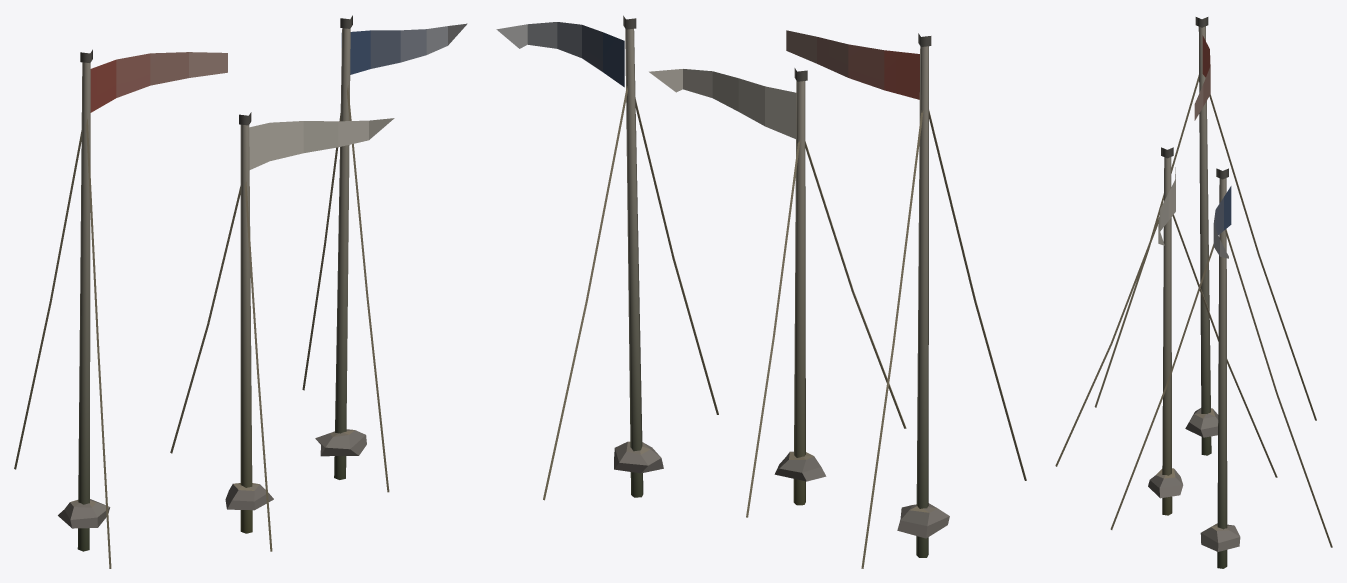
The model's file is wreck_cove_pennants.glb.
3 renders of one model, left to right at view 1: azimuth 30°, elevation 25°; view 2: azimuth 150°, elevation 25°; view 3: azimuth 270°, elevation 25°, orthographic. The views are drawn at different scales.
Visible parts, largest first — view 1: body, pennant_0, pennant_1, pennant_2; view 2: body, pennant_0, pennant_1, pennant_2; view 3: body, pennant_2, pennant_0, pennant_1.
Boxes of the visible parts, x1,y1,x2,y2 form: body: [14, 15, 389, 568]; pennant_0: [90, 52, 227, 112]; pennant_1: [249, 118, 394, 169]; pennant_2: [341, 23, 467, 74]; body: [543, 15, 1026, 568]; pennant_0: [786, 30, 919, 99]; pennant_1: [649, 69, 796, 138]; pennant_2: [496, 22, 624, 87]; body: [1055, 17, 1332, 568]; pennant_2: [1213, 186, 1231, 258]; pennant_0: [1194, 35, 1210, 120]; pennant_1: [1158, 167, 1175, 245].
Bounding box in the file's own units: 5.57 × 6.12 × 3.52.
